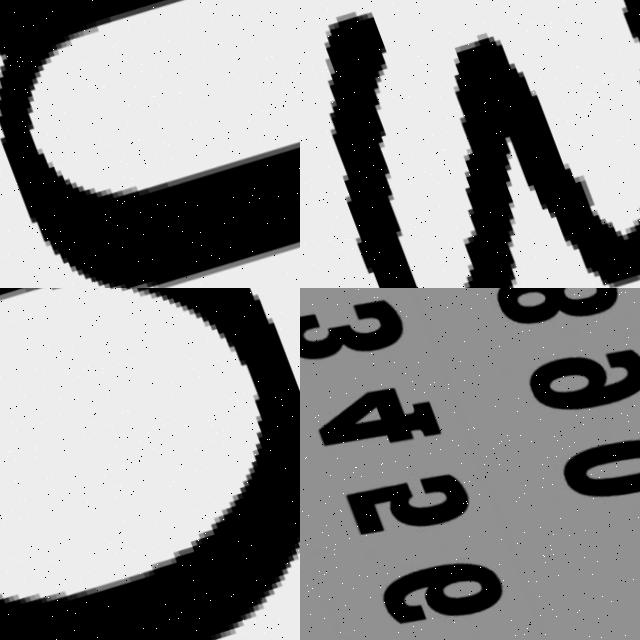0: (538, 388, 640, 535)
3: (300, 0, 640, 288), (300, 288, 413, 385)
4: (300, 338, 454, 484)
5: (322, 432, 488, 566)
6: (347, 516, 527, 640)
8: (474, 288, 639, 349)
9: (506, 299, 640, 440)
N: (0, 0, 300, 288)
